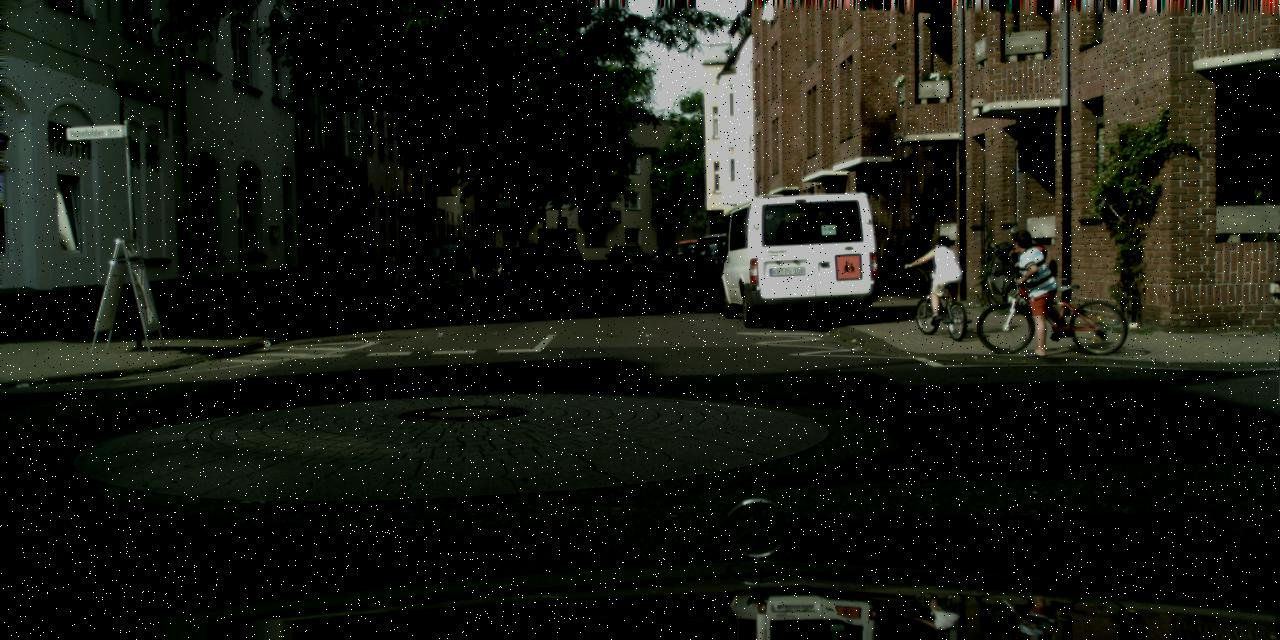ped: (1012, 230, 1059, 346), (926, 235, 960, 316)
